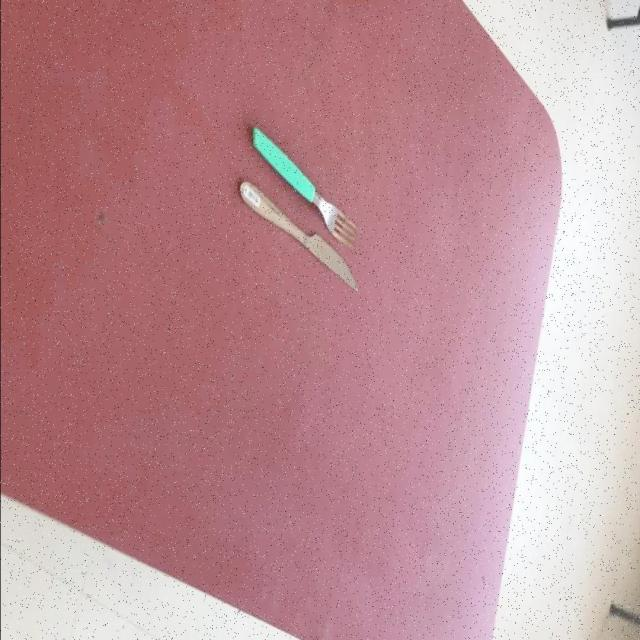Fork: (251, 125, 359, 247)
Knife: (239, 179, 359, 292)
